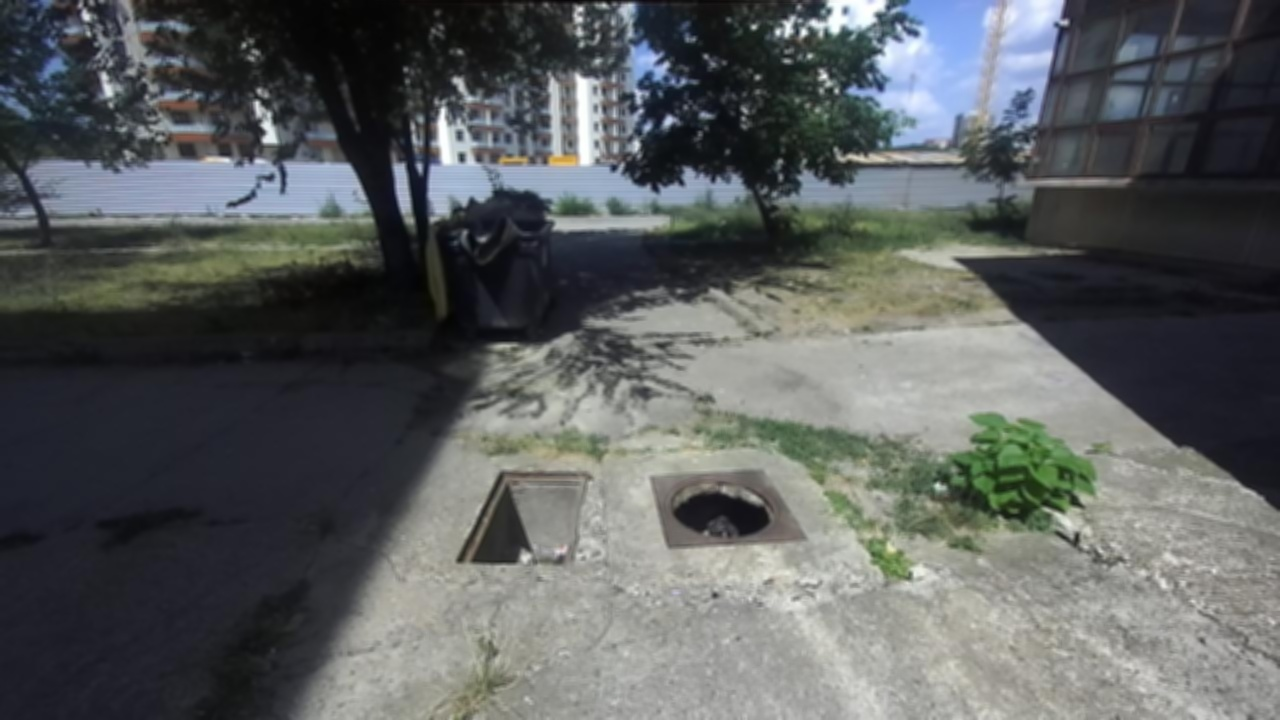drain: (446, 466, 593, 568), (660, 473, 785, 540)
